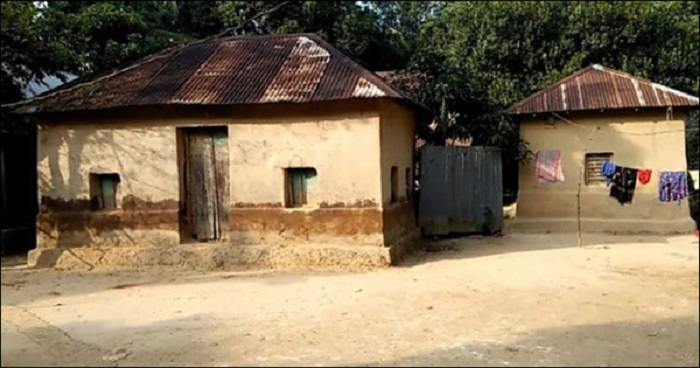Mud House: (30, 23, 433, 283), (479, 53, 692, 242)
